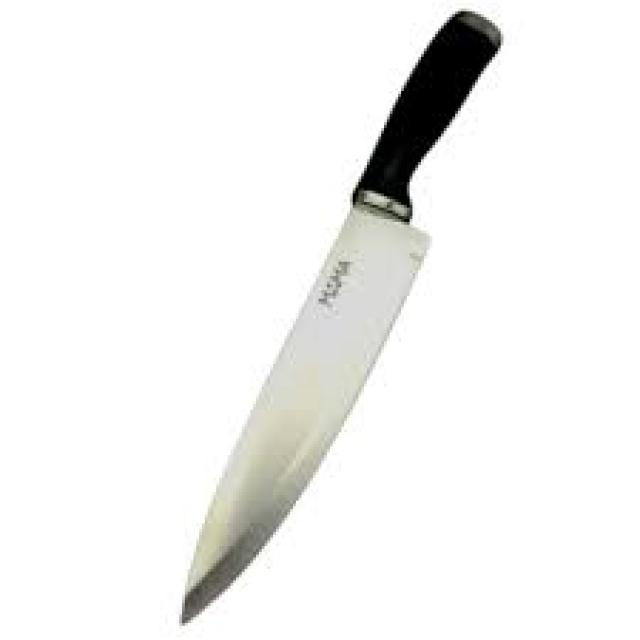Knife: (179, 11, 501, 623)
